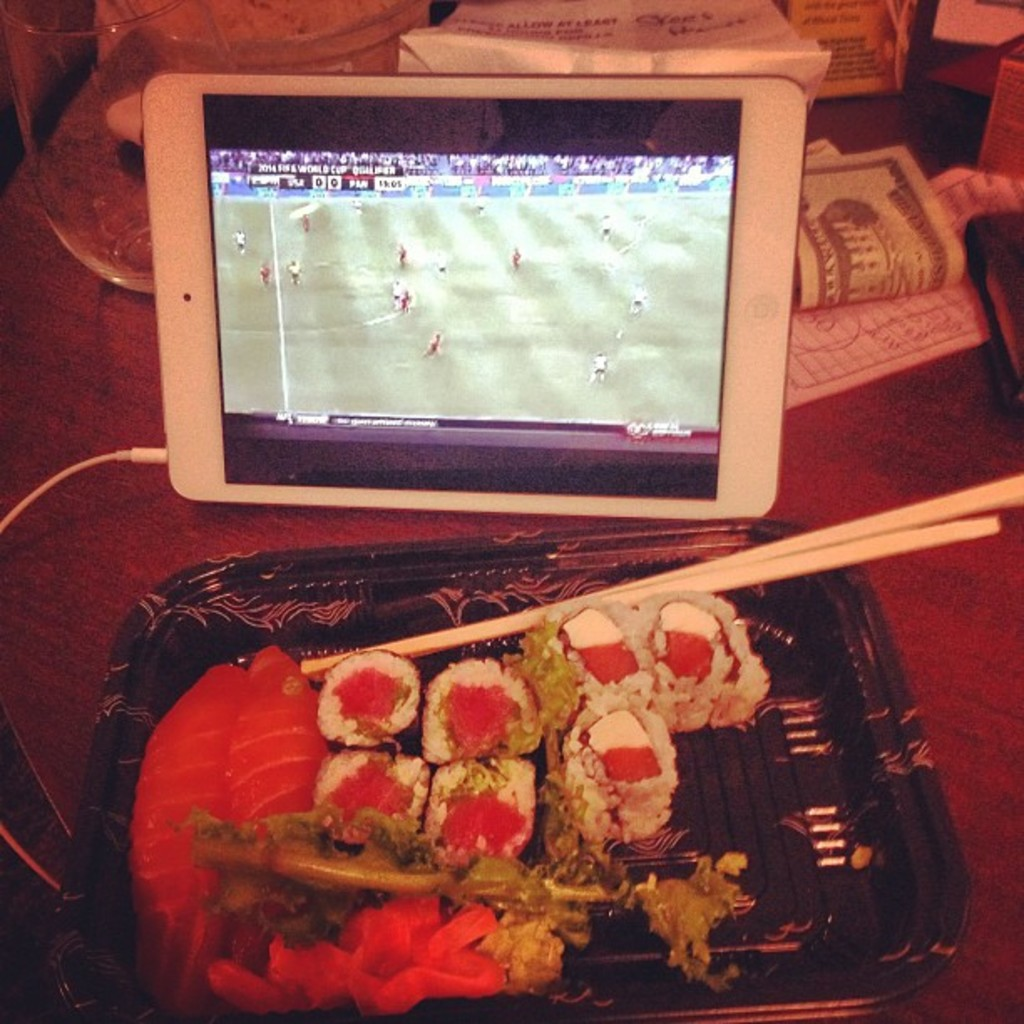sushi: (315, 596, 768, 873), (574, 733, 701, 873)
